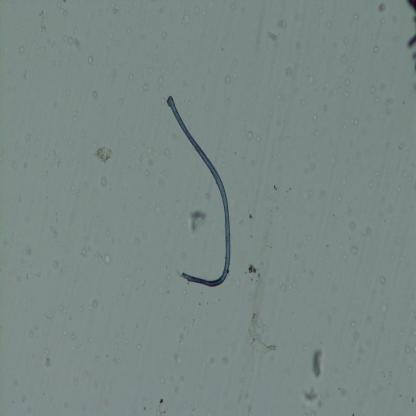Background material: (249, 310, 277, 356), (188, 209, 207, 232), (94, 144, 114, 165), (304, 385, 322, 407), (302, 152, 317, 177), (147, 196, 164, 218), (312, 348, 324, 378), (259, 228, 275, 249), (38, 8, 48, 34), (246, 263, 261, 280), (95, 250, 110, 266), (55, 0, 69, 17), (44, 345, 53, 370), (50, 148, 61, 168), (47, 222, 59, 238), (156, 74, 165, 94), (62, 35, 75, 48), (160, 142, 172, 156), (172, 352, 184, 366), (158, 394, 166, 414), (222, 74, 233, 88), (23, 244, 34, 258), (145, 153, 156, 167), (305, 72, 315, 86), (110, 0, 120, 14), (336, 385, 347, 397), (219, 352, 230, 364), (267, 30, 278, 42), (40, 310, 52, 321), (360, 226, 372, 237), (278, 278, 288, 291), (100, 174, 108, 190), (80, 244, 89, 258), (380, 303, 389, 317), (377, 1, 387, 13), (182, 11, 191, 24), (234, 278, 241, 294), (350, 116, 360, 127), (244, 403, 254, 414), (158, 29, 168, 40), (294, 38, 303, 50), (127, 68, 134, 83), (116, 93, 124, 106), (206, 355, 216, 365), (141, 82, 150, 93), (90, 299, 99, 310), (350, 245, 359, 256), (309, 113, 318, 124), (139, 277, 148, 288), (90, 88, 98, 100), (339, 53, 347, 65), (283, 68, 295, 76), (341, 249, 348, 262), (278, 20, 288, 29), (110, 356, 120, 365), (228, 2, 238, 11), (340, 36, 350, 45), (26, 330, 35, 340), (353, 330, 361, 341), (322, 102, 330, 113), (246, 129, 254, 140), (23, 132, 31, 143), (135, 340, 142, 352), (144, 143, 151, 155), (380, 274, 387, 286), (307, 268, 315, 278), (180, 286, 188, 296), (69, 332, 77, 342), (158, 375, 166, 385), (238, 374, 246, 384), (324, 19, 332, 29), (87, 54, 94, 65), (61, 329, 68, 340), (190, 316, 197, 327), (16, 46, 27, 53), (329, 304, 336, 315), (366, 179, 374, 188), (58, 305, 66, 314), (34, 269, 42, 278), (22, 160, 30, 169), (73, 342, 82, 350), (42, 167, 49, 177), (136, 266, 142, 277), (400, 170, 408, 178), (349, 320, 357, 328), (21, 393, 28, 402), (402, 346, 411, 353), (137, 153, 144, 162), (23, 70, 29, 80), (178, 333, 184, 343), (53, 262, 60, 270), (390, 35, 398, 42), (205, 192, 212, 200), (306, 232, 313, 240), (370, 86, 377, 94), (179, 373, 186, 381), (322, 82, 329, 90), (344, 91, 351, 99), (34, 324, 40, 333), (250, 156, 255, 166), (380, 17, 387, 24), (349, 223, 356, 230), (272, 183, 278, 191), (220, 161, 226, 169), (78, 304, 84, 312), (300, 242, 306, 250), (202, 8, 207, 17), (145, 167, 150, 176), (325, 270, 330, 279), (351, 15, 358, 21), (174, 386, 180, 393), (342, 124, 348, 131), (88, 336, 94, 343), (338, 193, 342, 203), (410, 395, 415, 403), (308, 189, 313, 197), (248, 212, 253, 220), (72, 117, 78, 123), (398, 254, 404, 260), (374, 46, 379, 53), (276, 94, 281, 101), (256, 135, 261, 142), (344, 80, 351, 85), (113, 71, 118, 78), (27, 271, 30, 282), (124, 338, 128, 346), (301, 100, 307, 105), (406, 366, 412, 371), (375, 98, 380, 104), (314, 130, 319, 136), (14, 380, 19, 386), (136, 322, 140, 329), (272, 61, 276, 67), (105, 352, 109, 358), (349, 68, 353, 73), (249, 234, 253, 238), (233, 150, 236, 155), (144, 406, 146, 411), (286, 190, 289, 193), (289, 186, 291, 190), (218, 299, 220, 301)
Microfibre: (166, 94, 231, 288)
Pen: (405, 0, 416, 60)
